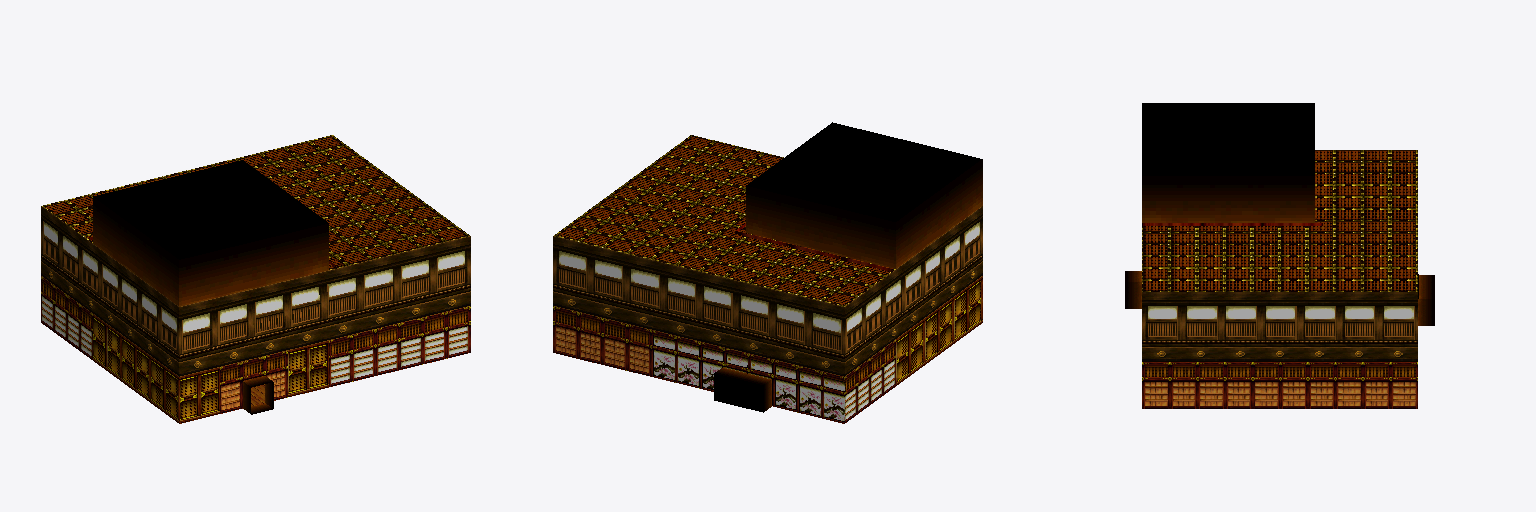
The picture shows the model from 3 angles: view 1: azimuth 30°, elevation 25°; view 2: azimuth 150°, elevation 25°; view 3: azimuth 270°, elevation 25°; orthographic projection.
Visible parts, largest first — view 1: Shape_IndexedFaceSet.006_Shape_IndexedFaceSet.015, Shape_IndexedFaceSet.016_Shape_IndexedFaceSet.040, Shape_IndexedFaceSet.017_Shape_IndexedFaceSet.041, Shape_IndexedFaceSet.014_Shape_IndexedFaceSet.038, Shape_IndexedFaceSet.005_Shape_IndexedFaceSet.014, Shape_IndexedFaceSet.012_Shape_IndexedFaceSet.036, Shape_IndexedFaceSet.008_Shape_IndexedFaceSet.032, Shape_IndexedFaceSet.007_Shape_IndexedFaceSet.016, Shape_IndexedFaceSet.011_Shape_IndexedFaceSet.035, Shape_IndexedFaceSet.010_Shape_IndexedFaceSet.034, Shape_IndexedFaceSet.013_Shape_IndexedFaceSet.037; view 2: Shape_IndexedFaceSet.016_Shape_IndexedFaceSet.040, Shape_IndexedFaceSet.006_Shape_IndexedFaceSet.015, Shape_IndexedFaceSet.017_Shape_IndexedFaceSet.041, Shape_IndexedFaceSet.014_Shape_IndexedFaceSet.038, Shape_IndexedFaceSet.005_Shape_IndexedFaceSet.014, Shape_IndexedFaceSet.001_Shape_IndexedFaceSet.010, Shape_IndexedFaceSet.010_Shape_IndexedFaceSet.034, Shape_IndexedFaceSet.008_Shape_IndexedFaceSet.032, Shape_IndexedFaceSet.011_Shape_IndexedFaceSet.035, Shape_IndexedFaceSet.013_Shape_IndexedFaceSet.037; view 3: Shape_IndexedFaceSet.016_Shape_IndexedFaceSet.040, Shape_IndexedFaceSet.005_Shape_IndexedFaceSet.014, Shape_IndexedFaceSet.009_Shape_IndexedFaceSet.033, Shape_IndexedFaceSet.017_Shape_IndexedFaceSet.041, Shape_IndexedFaceSet.014_Shape_IndexedFaceSet.038, Shape_IndexedFaceSet.013_Shape_IndexedFaceSet.037, Shape_IndexedFaceSet_Shape_IndexedFaceSet.009.
Part boxes in pixels (left/top/right/bottom): Shape_IndexedFaceSet.006_Shape_IndexedFaceSet.015: left=179, top=236, right=470, bottom=376; Shape_IndexedFaceSet.016_Shape_IndexedFaceSet.040: left=42, top=135, right=469, bottom=269; Shape_IndexedFaceSet.017_Shape_IndexedFaceSet.041: left=93, top=160, right=328, bottom=259; Shape_IndexedFaceSet.014_Shape_IndexedFaceSet.038: left=93, top=197, right=328, bottom=306; Shape_IndexedFaceSet.005_Shape_IndexedFaceSet.014: left=41, top=206, right=178, bottom=376; Shape_IndexedFaceSet.012_Shape_IndexedFaceSet.036: left=329, top=306, right=470, bottom=386; Shape_IndexedFaceSet.008_Shape_IndexedFaceSet.032: left=93, top=314, right=178, bottom=422; Shape_IndexedFaceSet.007_Shape_IndexedFaceSet.016: left=179, top=341, right=328, bottom=423; Shape_IndexedFaceSet.011_Shape_IndexedFaceSet.035: left=41, top=276, right=92, bottom=359; Shape_IndexedFaceSet.010_Shape_IndexedFaceSet.034: left=220, top=351, right=287, bottom=413; Shape_IndexedFaceSet.013_Shape_IndexedFaceSet.037: left=243, top=376, right=273, bottom=414; Shape_IndexedFaceSet.016_Shape_IndexedFaceSet.040: left=554, top=135, right=895, bottom=306; Shape_IndexedFaceSet.006_Shape_IndexedFaceSet.015: left=553, top=236, right=844, bottom=376; Shape_IndexedFaceSet.017_Shape_IndexedFaceSet.041: left=714, top=122, right=981, bottom=412; Shape_IndexedFaceSet.014_Shape_IndexedFaceSet.038: left=746, top=159, right=982, bottom=268; Shape_IndexedFaceSet.005_Shape_IndexedFaceSet.014: left=845, top=206, right=982, bottom=376; Shape_IndexedFaceSet.001_Shape_IndexedFaceSet.010: left=651, top=330, right=844, bottom=423; Shape_IndexedFaceSet.010_Shape_IndexedFaceSet.034: left=553, top=306, right=650, bottom=376; Shape_IndexedFaceSet.008_Shape_IndexedFaceSet.032: left=896, top=276, right=982, bottom=385; Shape_IndexedFaceSet.011_Shape_IndexedFaceSet.035: left=845, top=340, right=895, bottom=422; Shape_IndexedFaceSet.013_Shape_IndexedFaceSet.037: left=715, top=368, right=771, bottom=411; Shape_IndexedFaceSet.016_Shape_IndexedFaceSet.040: left=1142, top=150, right=1417, bottom=291; Shape_IndexedFaceSet.005_Shape_IndexedFaceSet.014: left=1142, top=292, right=1417, bottom=361; Shape_IndexedFaceSet.009_Shape_IndexedFaceSet.033: left=1142, top=362, right=1417, bottom=408; Shape_IndexedFaceSet.017_Shape_IndexedFaceSet.041: left=1142, top=103, right=1314, bottom=175; Shape_IndexedFaceSet.014_Shape_IndexedFaceSet.038: left=1142, top=176, right=1314, bottom=222; Shape_IndexedFaceSet.013_Shape_IndexedFaceSet.037: left=1125, top=271, right=1434, bottom=325; Shape_IndexedFaceSet_Shape_IndexedFaceSet.009: left=1142, top=223, right=1322, bottom=225.
Size of the model in its own units: 42.03 by 22.63 by 38.8.
Materials: 22 (12 with a texture image).